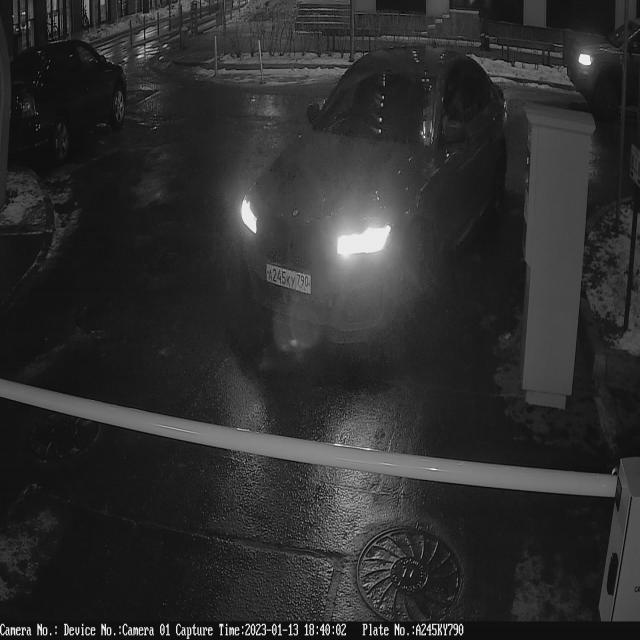car-plate-numbers: (265, 263, 314, 299)
